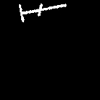double_crochet: (19, 4, 65, 21)
